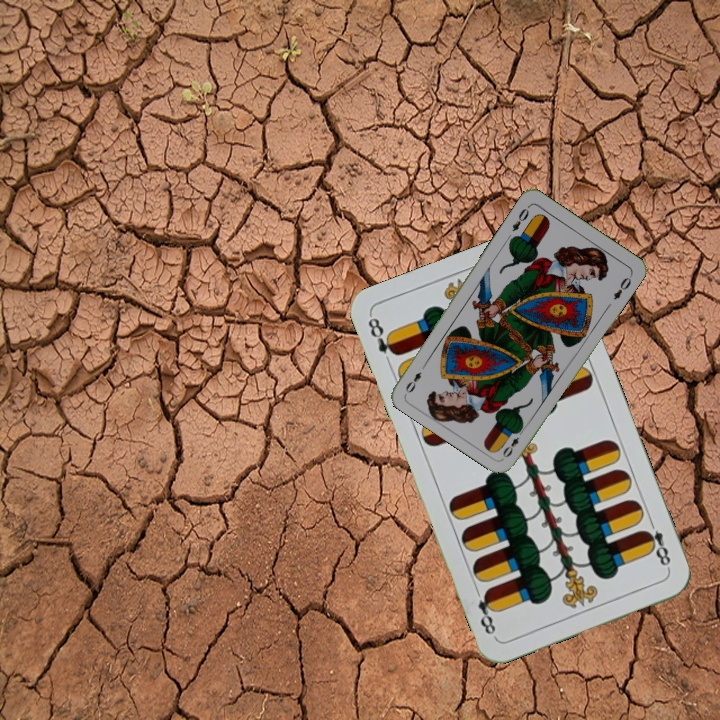E8: (639, 515, 673, 573), (364, 312, 401, 359)
EO: (499, 424, 527, 460), (508, 201, 532, 234)
